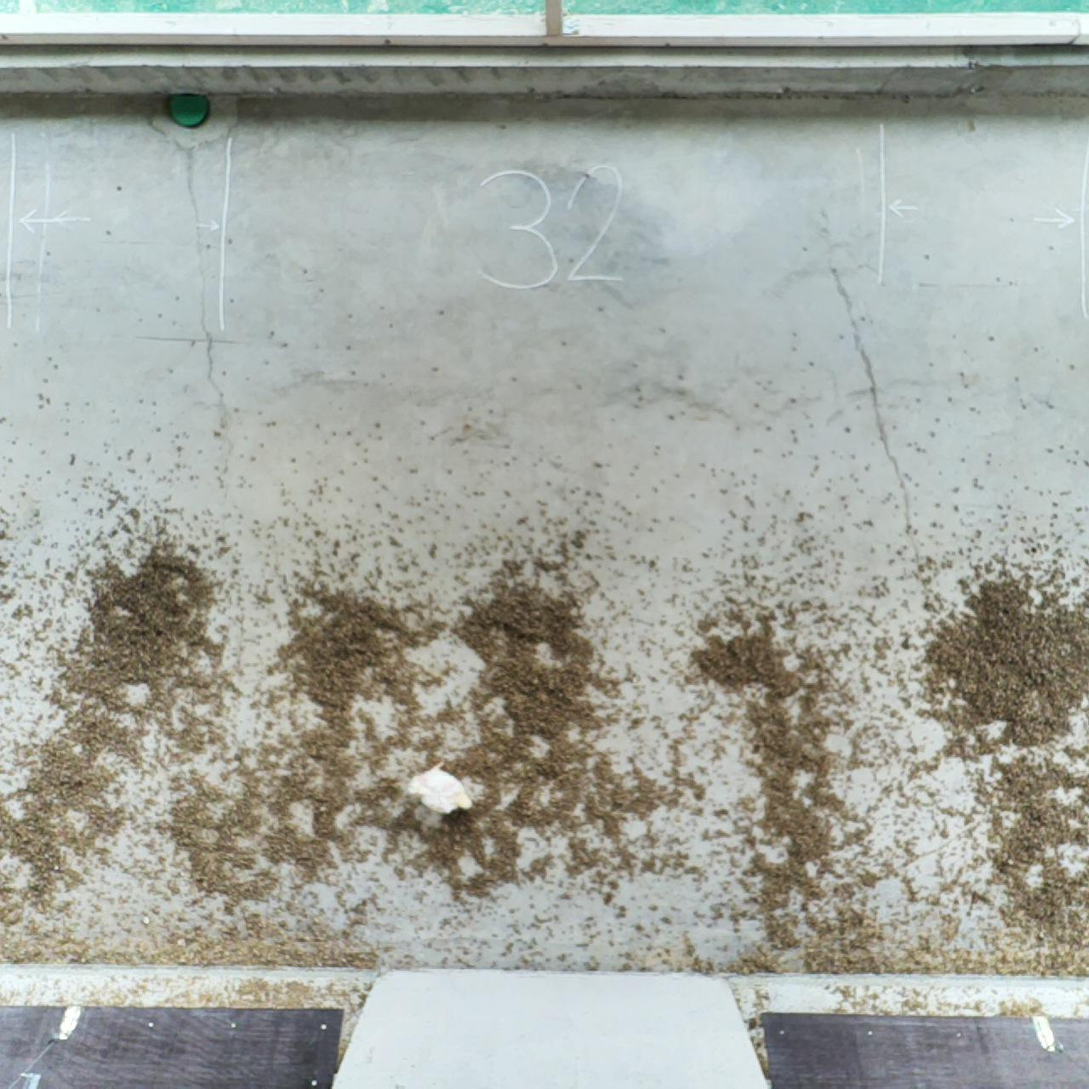chicken: (400, 762, 478, 820)
